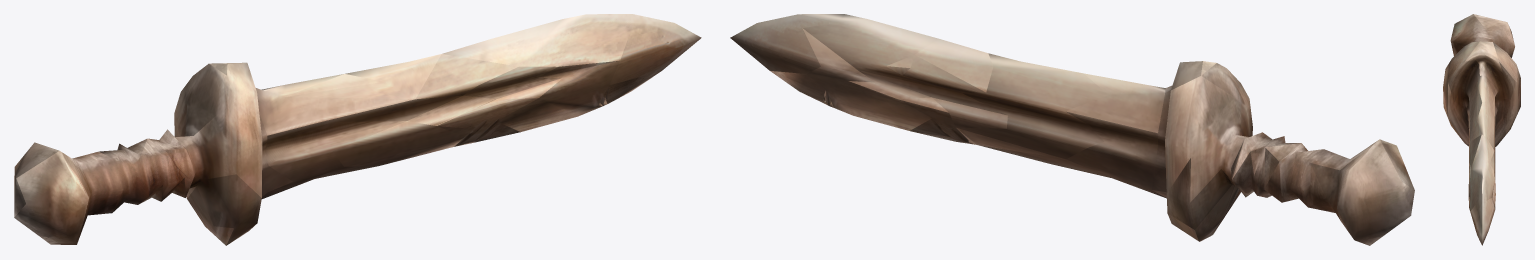
File: Sword.glb
3 views of the same model, side by side, from view 1: azimuth 30°, elevation 25°; view 2: azimuth 150°, elevation 25°; view 3: azimuth 270°, elevation 25° (orthographic). The views are drawn at different scales.
Visible parts, largest first — view 1: Sword; view 2: Sword; view 3: Sword.
Part boxes in pixels (bbox=[...]): Sword: bbox=[14, 14, 701, 245]; Sword: bbox=[730, 14, 1414, 245]; Sword: bbox=[1443, 14, 1520, 245].
Size of the model in its own units: 1 by 0.2501 by 0.157.
1 material, 1 textured.
